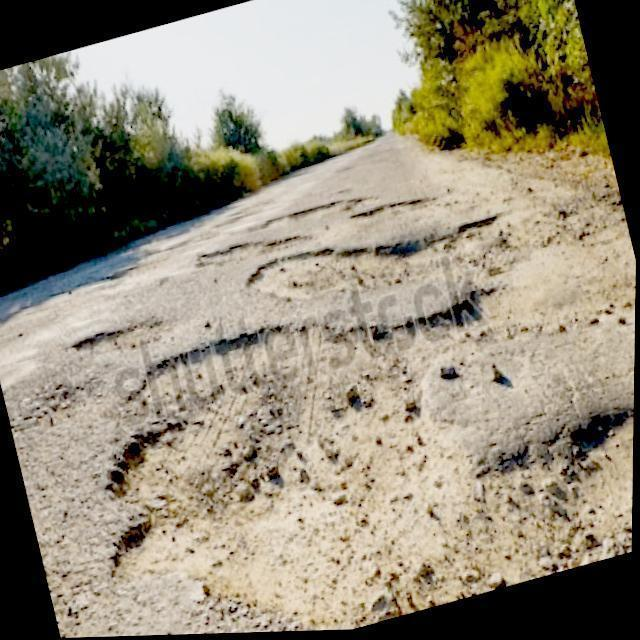Pothole: (114, 213, 635, 633), (200, 184, 427, 267), (68, 312, 169, 349)
